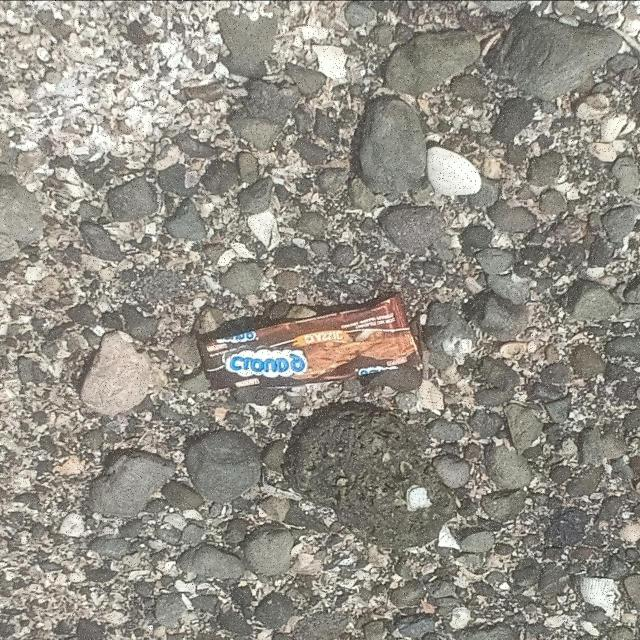plastic_waste: (196, 291, 425, 393)
